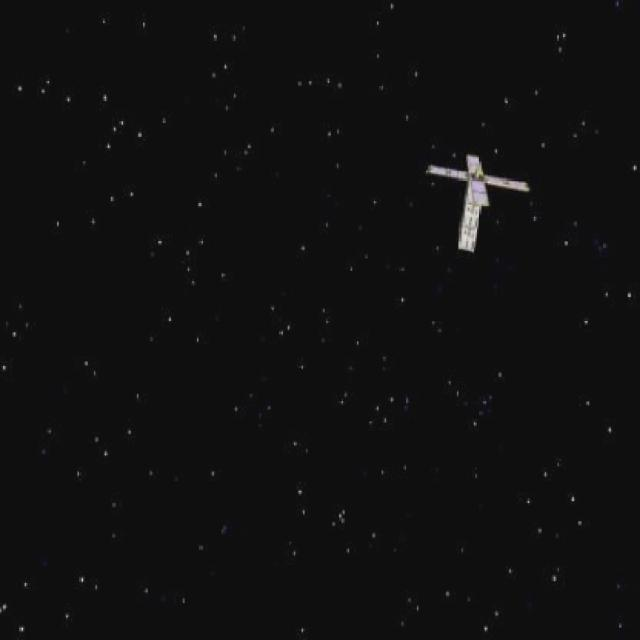medium_debris: (417, 146, 530, 264)
